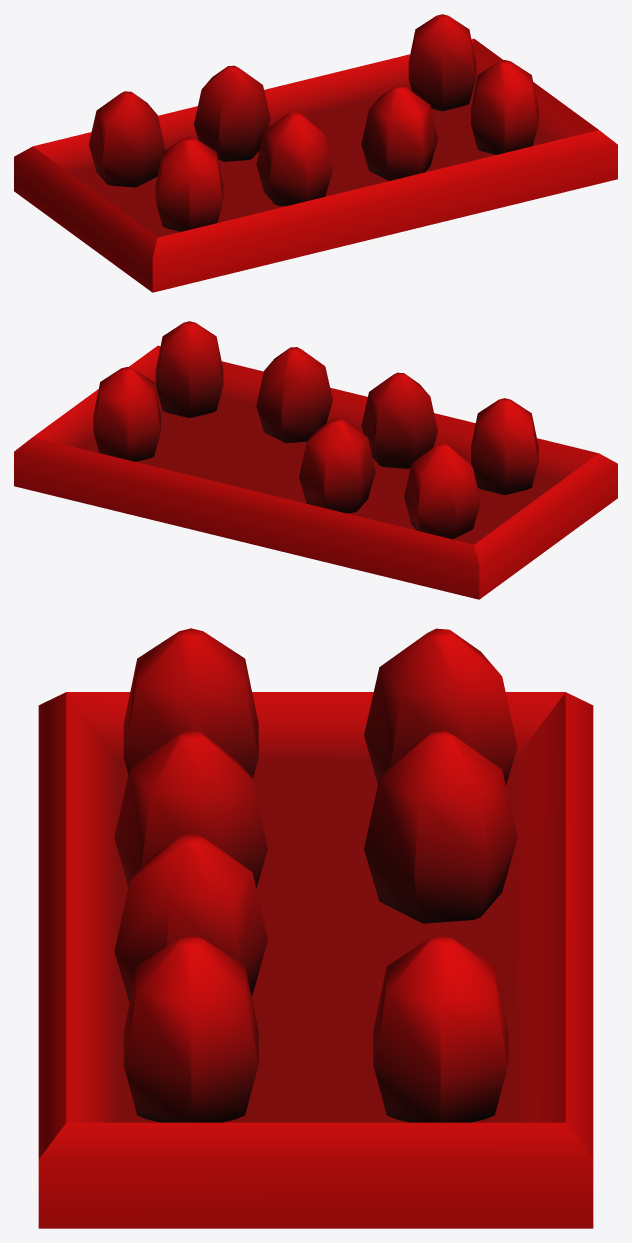
Rendered from CI_Bakery_EggCrate.glb.
3 renders of one model, top to bottom at view 1: azimuth 30°, elevation 25°; view 2: azimuth 150°, elevation 25°; view 3: azimuth 270°, elevation 25°, orthographic. The views are drawn at different scales.
Visible parts, largest first — view 1: CI_Bakery_EggCrate; view 2: CI_Bakery_EggCrate; view 3: CI_Bakery_EggCrate.
Boxes of the visible parts, bbox=[...] form: CI_Bakery_EggCrate: bbox=[14, 14, 617, 292]; CI_Bakery_EggCrate: bbox=[14, 321, 617, 599]; CI_Bakery_EggCrate: bbox=[38, 628, 593, 1228].
Size of the model in its own units: 0.31 by 0.068 by 0.16.
